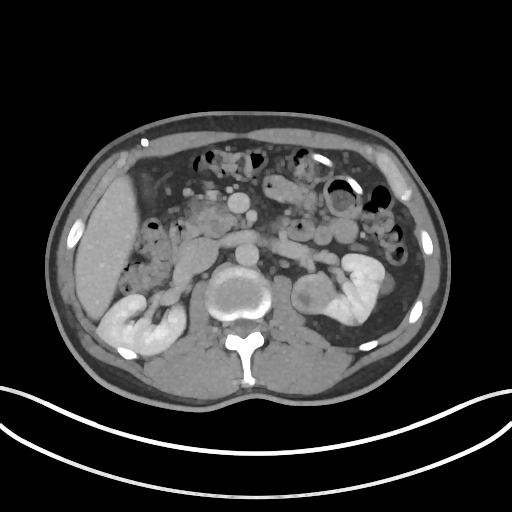Lesion: (287, 266, 336, 318)
